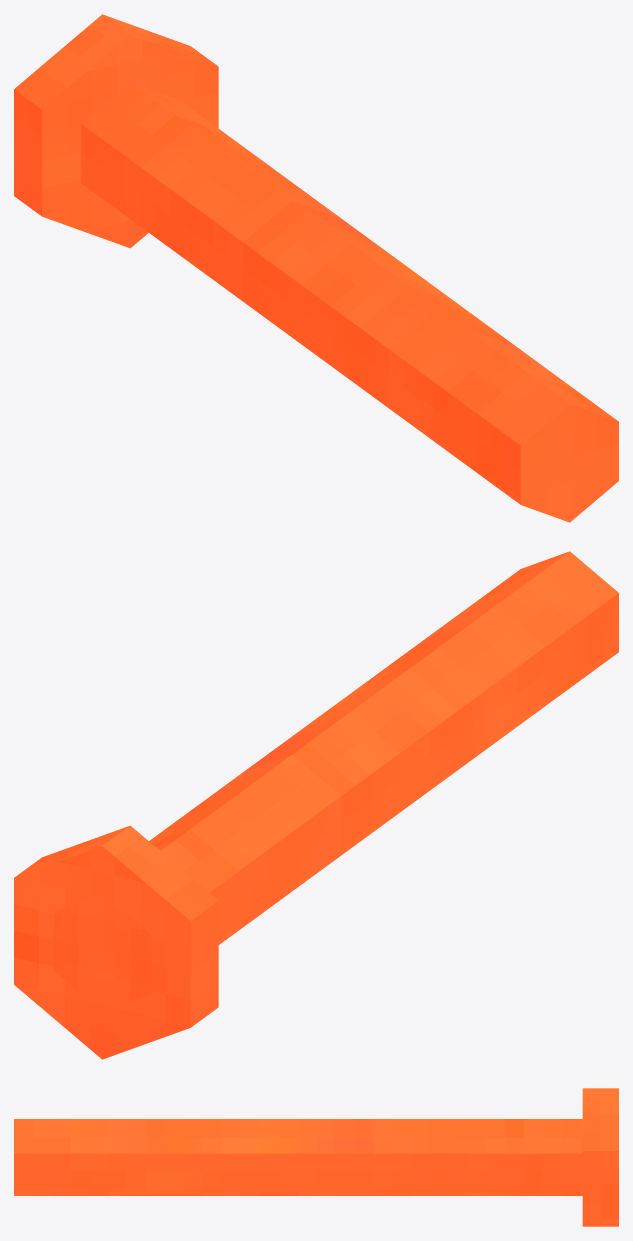
The model's file is fx_rail_e.glb.
3 renders of one model, top to bottom at view 1: azimuth 30°, elevation 25°; view 2: azimuth 150°, elevation 25°; view 3: azimuth 270°, elevation 25°, orthographic. The views are drawn at different scales.
Visible parts, largest first — view 1: fx_rail_e; view 2: fx_rail_e; view 3: fx_rail_e.
Part boxes in pixels (x1,y1,x2,y2): fx_rail_e: [14, 14, 618, 522]; fx_rail_e: [14, 551, 618, 1059]; fx_rail_e: [14, 1088, 618, 1226].
Size of the model in its own units: 0.2182 by 0.252 by 1.
Materials: 1 (1 with a texture image).
